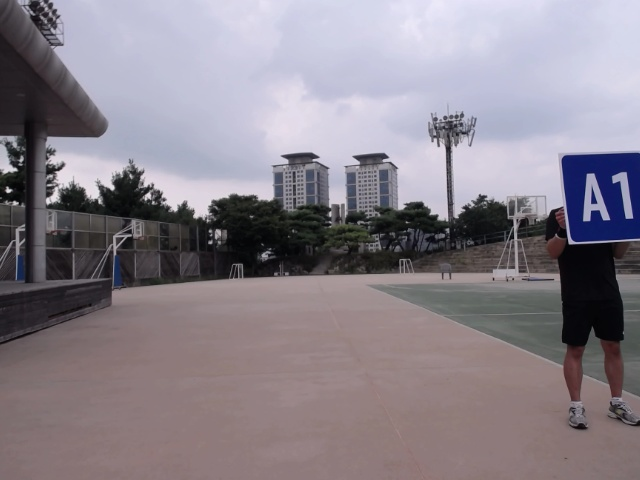delivery_a1: (560, 151, 639, 243)
